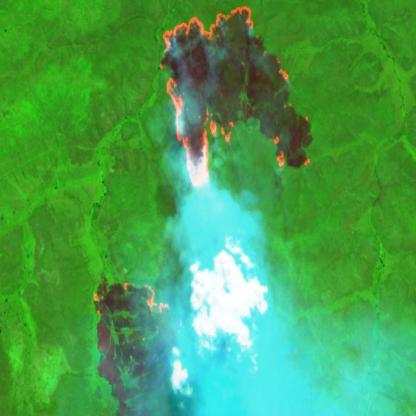fire: (155, 3, 313, 189), (93, 273, 179, 330)
